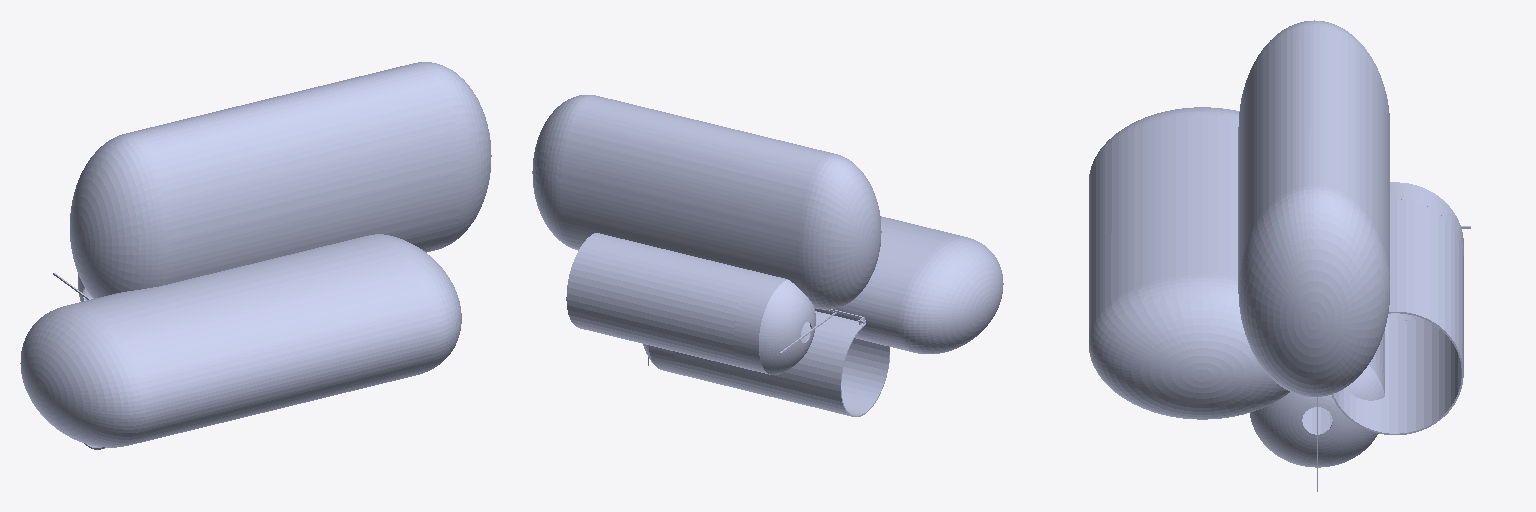
The robot description file, URDF, robot "burn_cream_blimp":
<?xml version="1.0" encoding="utf-8"?>
<!-- This URDF was automatically created by SolidWorks to URDF Exporter! Originally created by [author] ([email redacted]) 
     Commit Version: 1.6.0-4-g7f85cfe  Build Version: 1.6.7995.38578
     For more information, please see http://wiki.ros.org/sw_urdf_exporter -->
<robot
  name="burn_cream_blimp">
<link name="world">
    <visual>
        <origin xyz="0 0 0" rpy="0 0 0" />
        <geometry>
            <box size="0.001 0.001 0.001" />
        </geometry>
    </visual>
</link>

<joint name="world_joint" type="fixed">
    <origin xyz="0 0 0.001" rpy="0 0 3.1415" />
    <parent link="world"/>
    <child link="staticFrame" />
</joint>
  <link
    name="staticFrame">
    <inertial>
      <origin
        xyz="0.52984 -0.0063986 -0.24547"
        rpy="0 0 3.1416" />
      <mass
        value="29.561" />
      <inertia
        ixx="2.159"
        ixy="-5.058E-05"
        ixz="0.0022745"
        iyy="6.8294"
        iyz="-6.1749E-05"
        izz="6.3297" />
    </inertial>
    <visual>
      <origin
        xyz="0.43258 0 0.38426"
        rpy="0 0 3.1416" />
      <geometry>
        <mesh
          filename="package://test_urdf_tool/meshes/visual/staticFrame.STL" />
      </geometry>
      <material
        name="">
        <color
          rgba="0.79216 0.81961 0.93333 1" />
      </material>
    </visual>
    <collision>
      <origin
        xyz="0 0 0"
        rpy="0 0 0" />
      <geometry>
        <mesh
          filename="package://test_urdf_tool/meshes/visual/staticFrame.STL" />
      </geometry>
    </collision>
  </link>
  <link
    name="BurnCreamBlimp">
    <inertial>
      <origin
        xyz="0.52984 -0.0063986 -0.24547"
        rpy="1.5708 0 3.1416" />
      <mass
        value="29.551" />
      <inertia
        ixx="2.159"
        ixy="0.0022744"
        ixz="5.1199E-05"
        iyy="6.3297"
        iyz="6.1646E-05"
        izz="6.8294" />
    </inertial>
    <visual>
      <origin
        xyz="0.43258 -7E-07 0.38426"
        rpy="1.5708 0 3.1416" />
      <geometry>
        <mesh
          filename="package://test_urdf_tool/meshes/visual/BurnCreamBlimp.STL" />
      </geometry>
      <material
        name="">
        <color
          rgba="0.79216 0.81961 0.93333 1" />
      </material>
    </visual>
    <collision>
      <origin
        xyz="0 0 0"
        rpy="0 0 0" />
      <geometry>
        <mesh
          filename="package://test_urdf_tool/meshes/visual/BurnCreamBlimp.STL" />
      </geometry>
    </collision>
  </link>
  <joint
    name="IMU"
    type="continuous">
    <origin
      xyz="0 0 0"
      rpy="1.5708 0 3.1416" />
    <parent
      link="staticFrame" />
    <child
      link="BurnCreamBlimp" />
    <axis
      xyz="0 0 0" />
  </joint>
  <link
    name="BurnCreamCamera">
    <inertial>
      <origin
        xyz="1.4495E-09 -0.0022426 -0.0086043"
        rpy="0 0 0" />
      <mass
        value="0.010159" />
      <inertia
        ixx="6.7246E-07"
        ixy="-1.0359E-07"
        ixz="-6.1934E-07"
        iyy="6.282E-06"
        iyz="-6.7786E-08"
        izz="6.1913E-06" />
    </inertial>
    <visual>
      <origin
        xyz="0 0 0"
        rpy="0 3.14159 0" />
      <geometry>
        <mesh
          filename="package://test_urdf_tool/meshes/visual/BurnCreamCamera.STL" />
      </geometry>
      <material
        name="">
        <color
          rgba="0.79216 0.81961 0.93333 1" />
      </material>
    </visual>
    <collision>
      <origin
        xyz="0 0 0"
        rpy="0 0 0" />
      <geometry>
        <mesh
          filename="package://test_urdf_tool/meshes/visual/BurnCreamCamera.STL" />
      </geometry>
    </collision>
  </link>
  <joint
    name="Camera"
    type="fixed">
    <origin
      xyz="0.640405 -9E-03 0.004073"
      rpy="1.5708 0 1.5708" />
    <parent
      link="BurnCreamBlimp" />
    <child
      link="BurnCreamCamera" />
    <axis
      xyz="0 0 0" />
  </joint>
</robot>

--- Render facts (derived) ---
3 views of the same robot in one strip: view 1: azimuth 30°, elevation 25°; view 2: azimuth 150°, elevation 25°; view 3: azimuth 270°, elevation 25° (orthographic).
Model burn_cream_blimp with 4 links and 3 joints (1 continuous, 2 fixed), rooted at world, posed every joint at zero.
Links seen in each view (by area): view 1: staticFrame, BurnCreamBlimp; view 2: staticFrame, BurnCreamBlimp; view 3: BurnCreamBlimp, staticFrame.
Boxes of the visible links, box(x1,y1,x2,y2) form: staticFrame: box(70, 62, 491, 449); BurnCreamBlimp: box(20, 234, 461, 447); staticFrame: box(532, 95, 889, 416); BurnCreamBlimp: box(566, 216, 1003, 374); BurnCreamBlimp: box(1089, 107, 1470, 434); staticFrame: box(1238, 20, 1389, 491).
Size in the robot's own frame: 2.17 by 1.28 by 1.28 metres.
3 mesh visuals loaded from 3 distinct referenced files (3 binary STL).